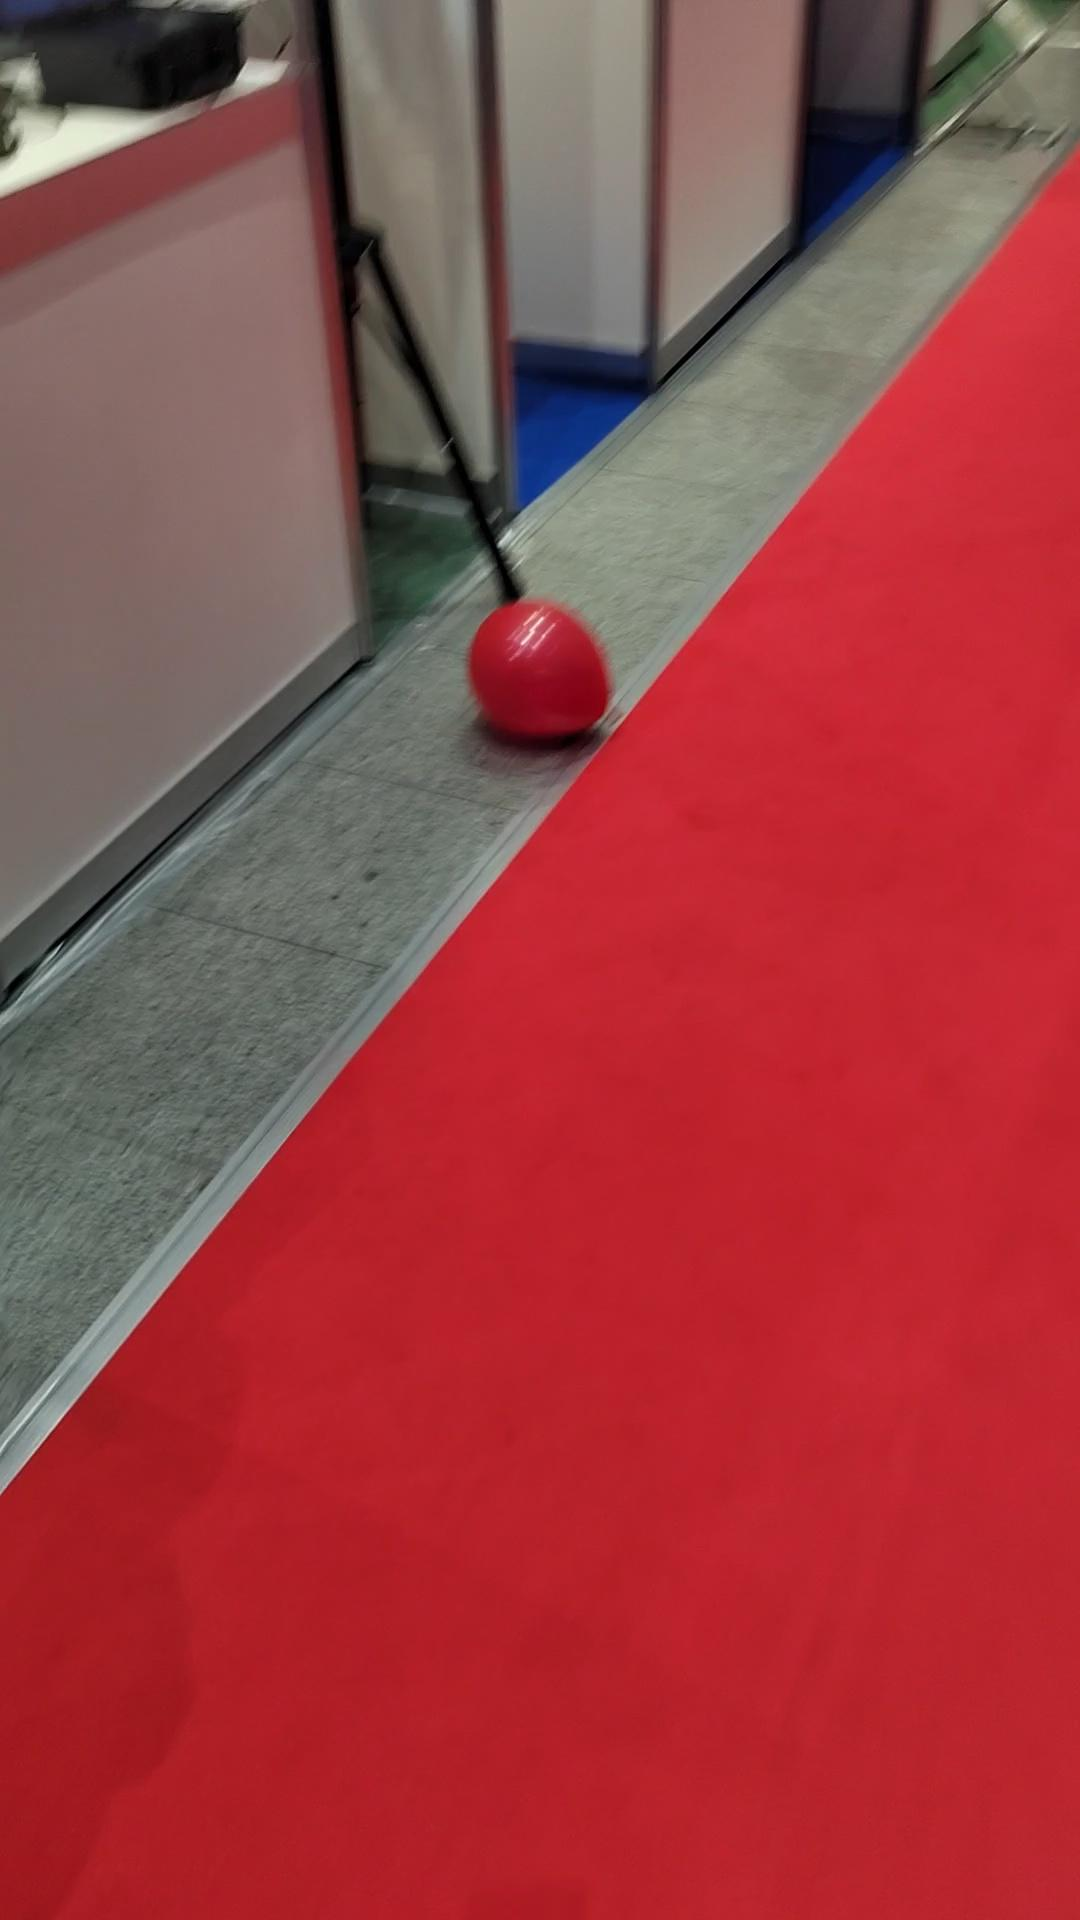red: (459, 593, 617, 742)
